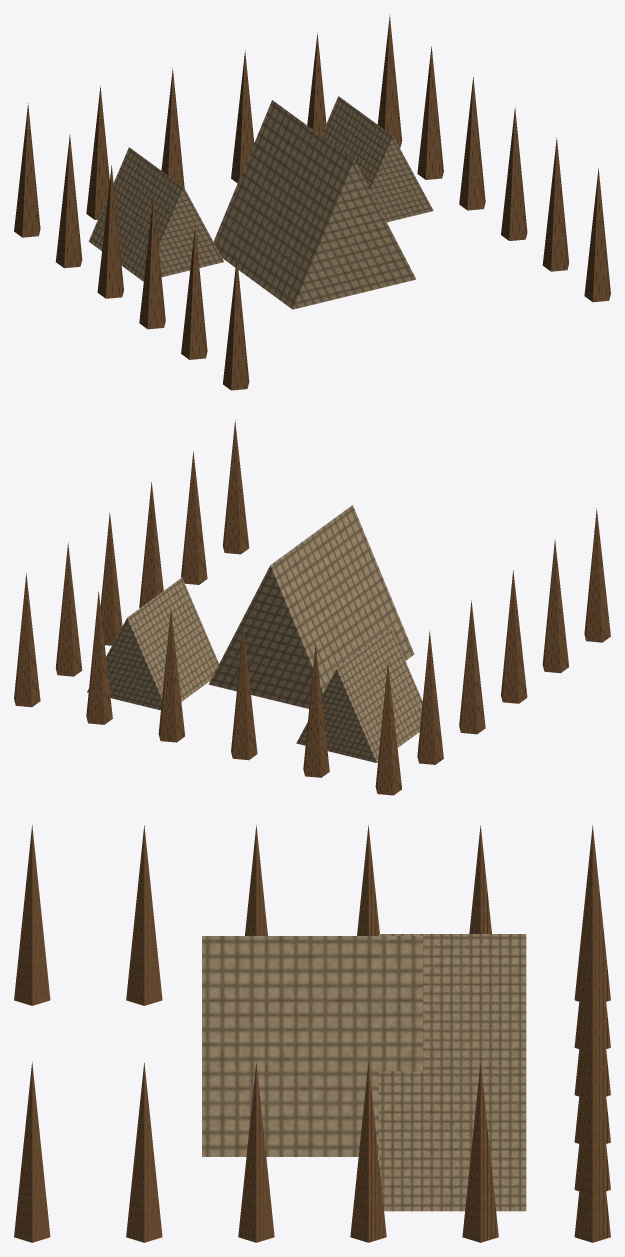
The model's file is military-FORT-1-lod1.glb.
3 views of the same model, one above another, from view 1: azimuth 30°, elevation 25°; view 2: azimuth 150°, elevation 25°; view 3: azimuth 270°, elevation 25° (orthographic). The views are drawn at different scales.
Size of the model in its own units: 0.807 by 0.27 by 0.8095.
Materials: 1 (1 with a texture image).
